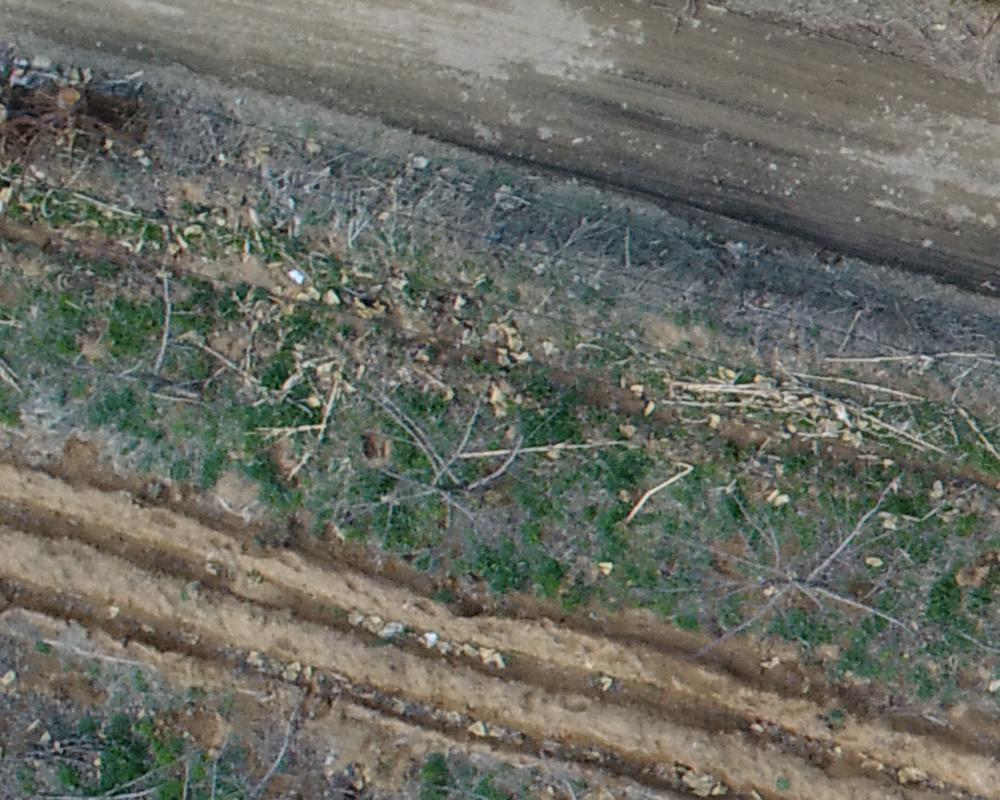apple: (657, 454, 924, 678)
